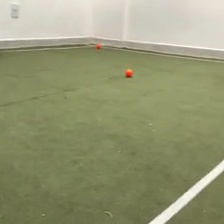ball: (124, 67, 133, 77), (95, 41, 103, 50)
